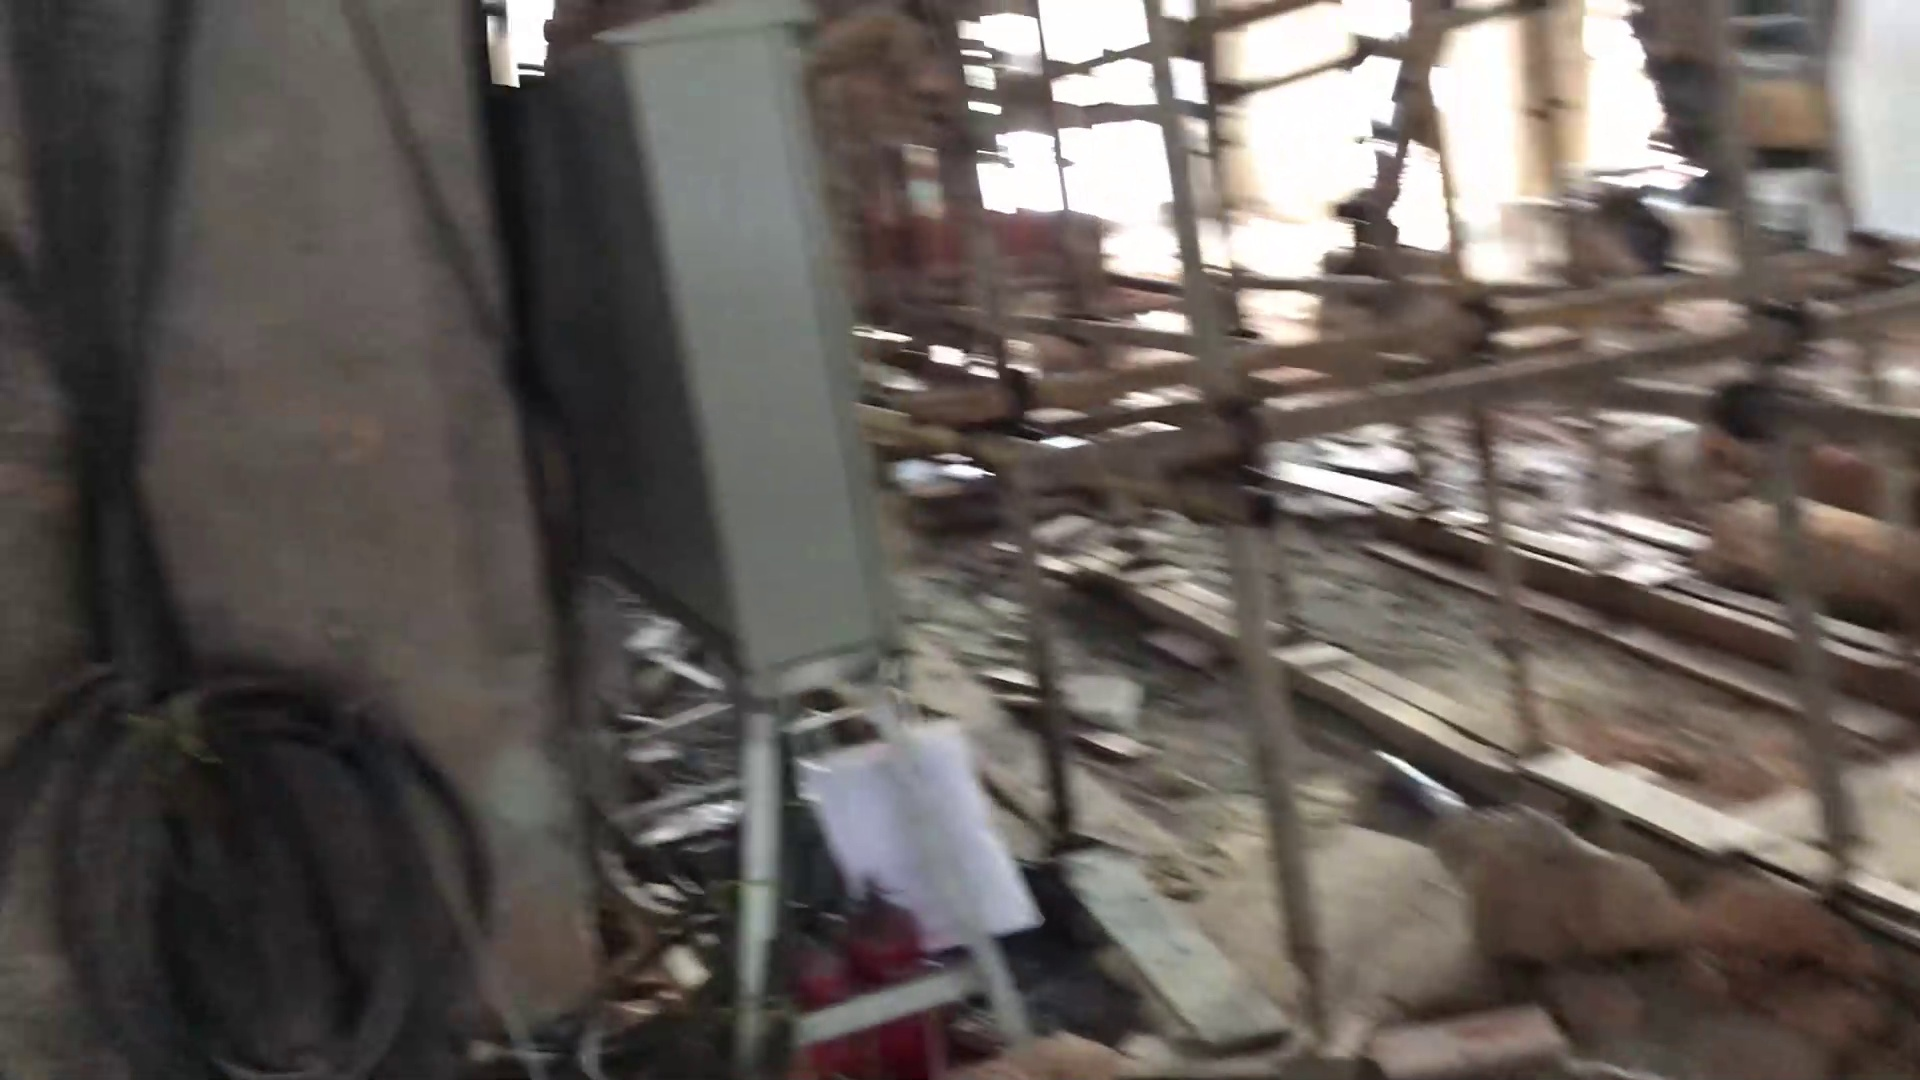ebox: (542, 1, 895, 702)
